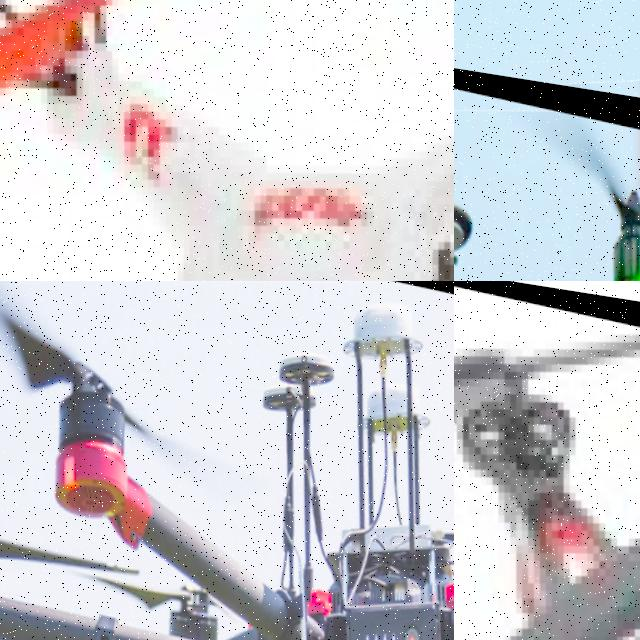drone: (0, 281, 454, 640), (0, 0, 454, 281), (454, 281, 640, 640), (454, 14, 640, 281)
